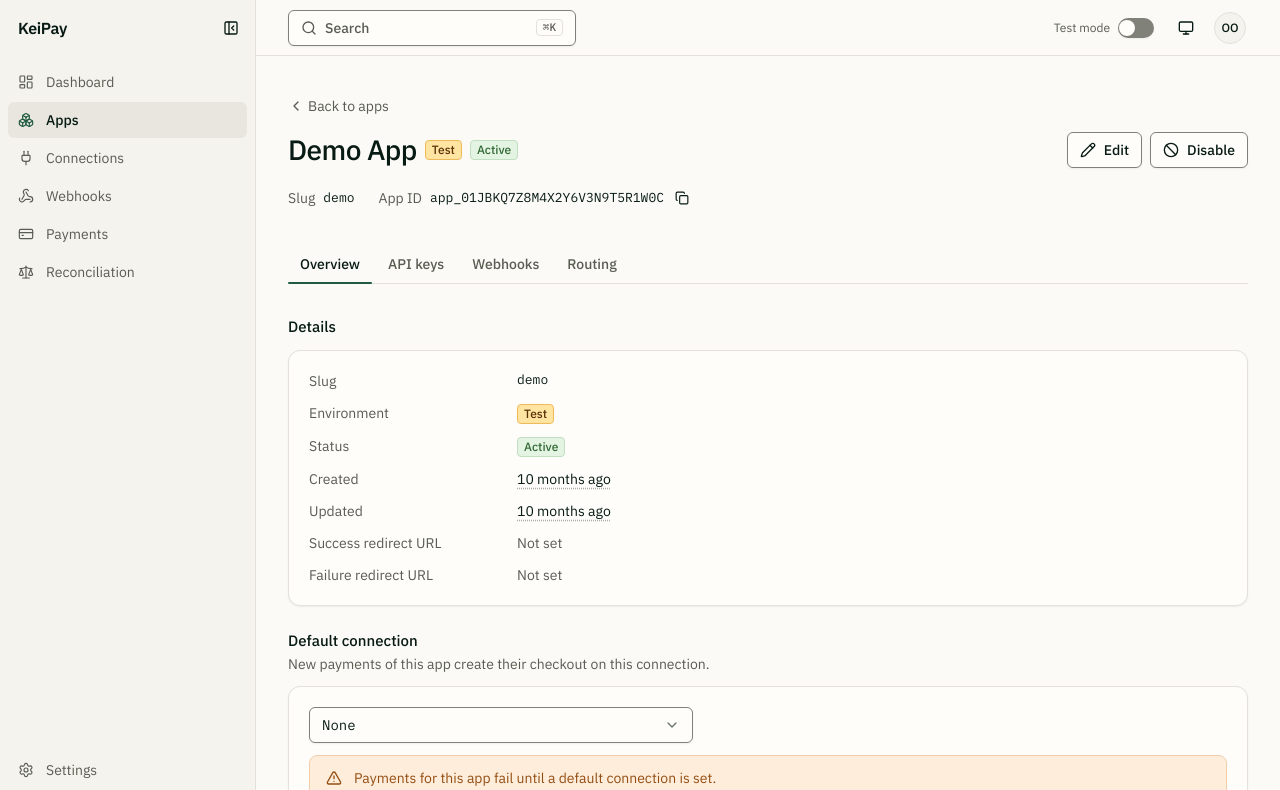
Test: Default connection › offers active connections of the app's environment and sets one
Check: the text "Payments for this app fail until a default connection is set." is shown, box left=354, top=769, right=716, bottom=787
Step 1. Click the dropdown named "Default connection" → x=339, y=725, box left=309, top=707, right=693, bottom=743
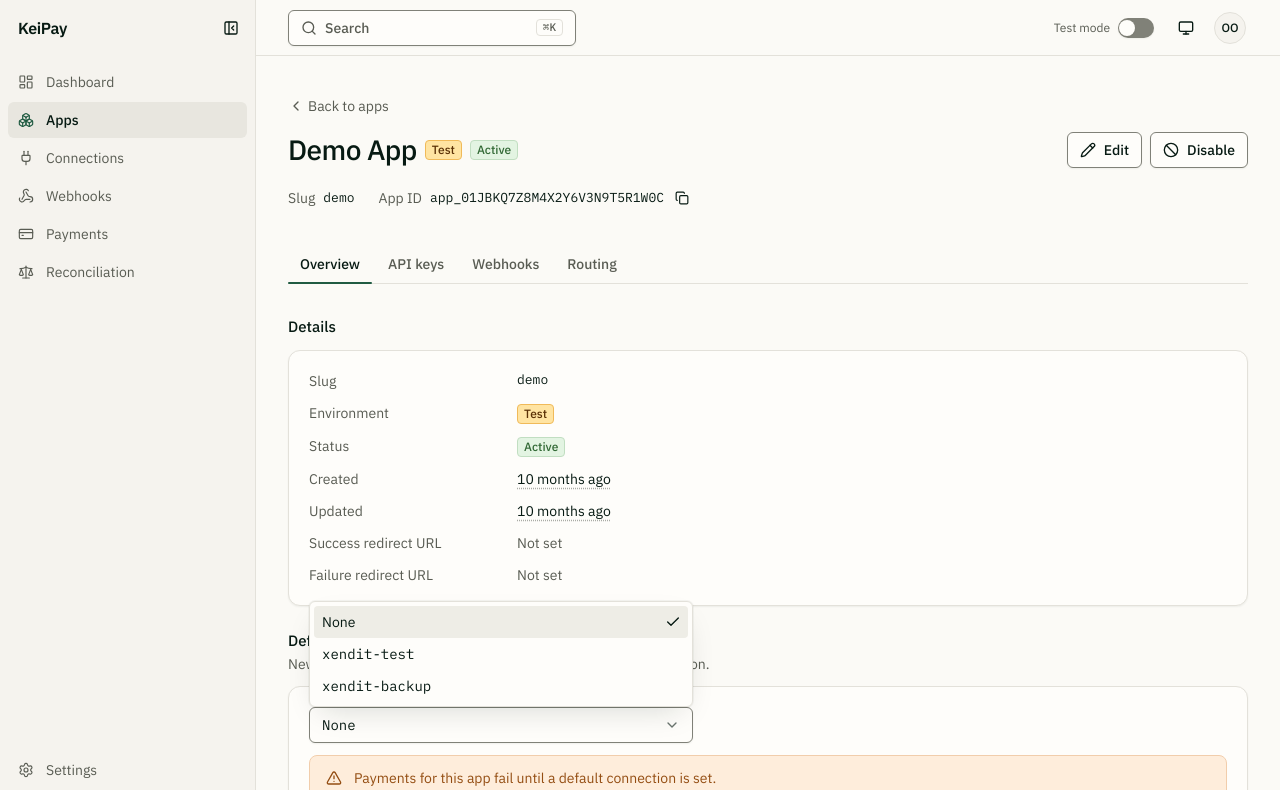
Check: the options read "None", "xendit-test", "xendit-backup", in this order
Step 2. Click the option "xendit-test" → x=368, y=654, box left=322, top=645, right=414, bottom=663
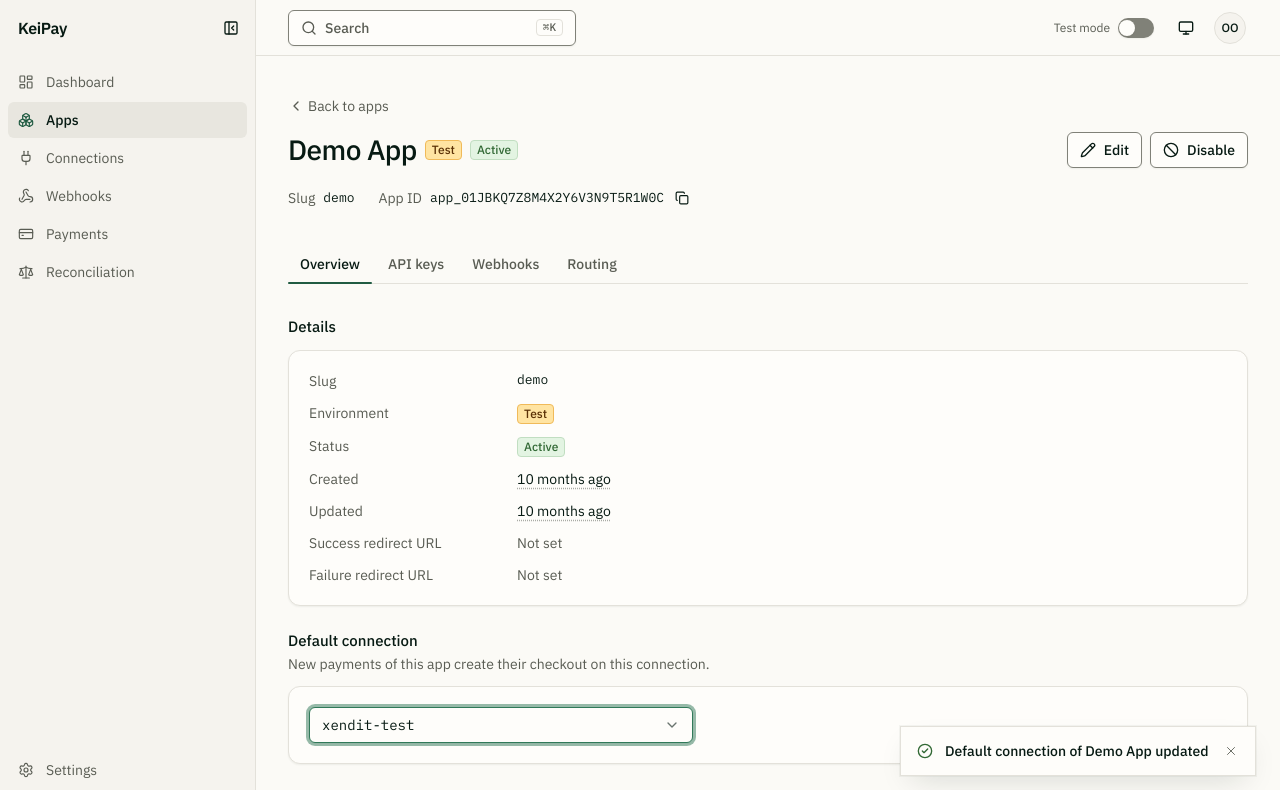
Check: the text "Default connection of Demo App updated" is shown, box left=945, top=741, right=1209, bottom=761
